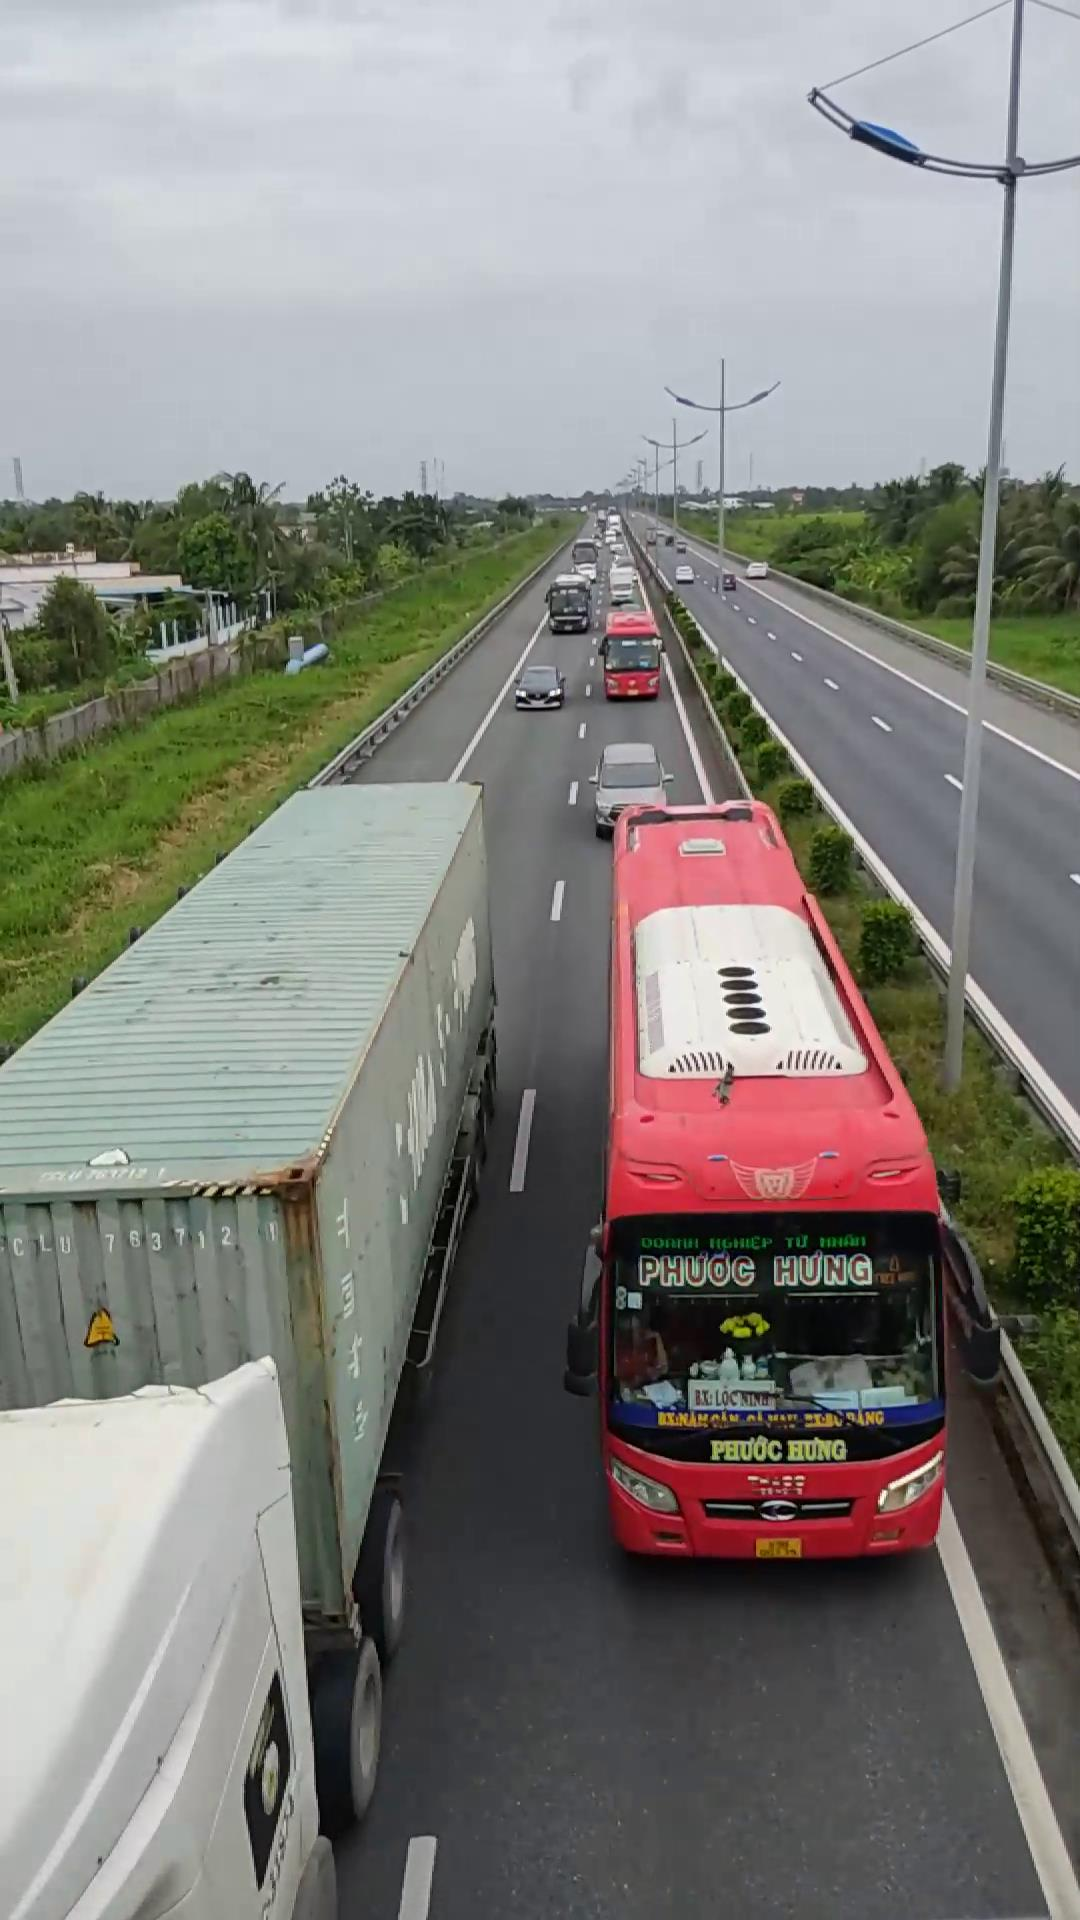container: (1, 771, 497, 1913), (593, 791, 955, 1563)
